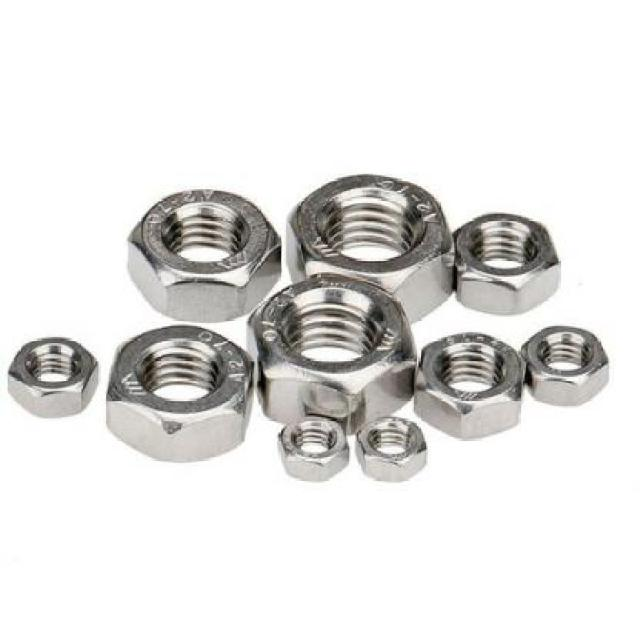Nut: (248, 271, 417, 438), (284, 169, 458, 323), (125, 186, 282, 325), (105, 323, 254, 463), (414, 330, 526, 440), (453, 210, 565, 316), (520, 325, 612, 407), (8, 337, 99, 417), (355, 414, 430, 483), (276, 414, 350, 482)
